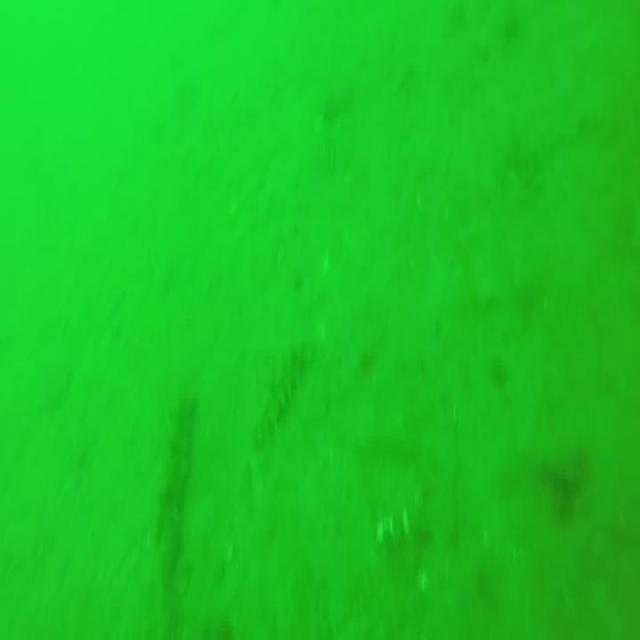holothurian: (153, 392, 197, 575), (250, 344, 317, 432)
